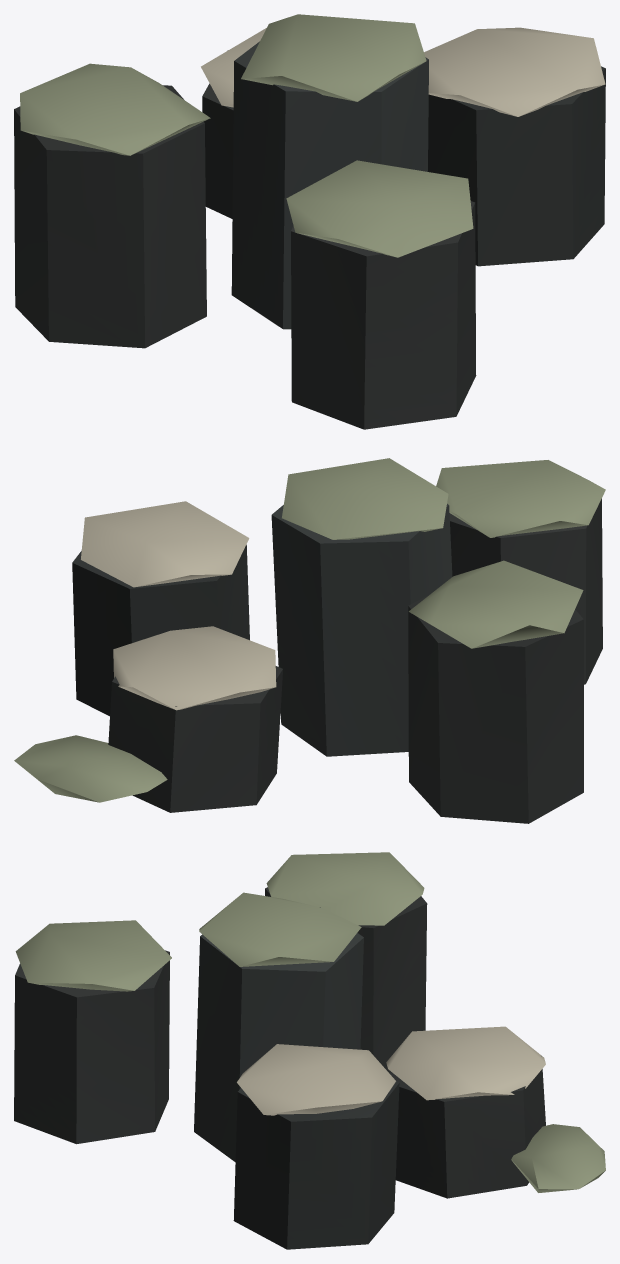
The model's file is column_stubs_a_lod2.glb.
3 renders of one model, top to bottom at view 1: azimuth 30°, elevation 25°; view 2: azimuth 150°, elevation 25°; view 3: azimuth 270°, elevation 25°, orthographic. The views are drawn at different scales.
Visible parts, largest first — view 1: Surface.001; view 2: Surface.001; view 3: Surface.001.
Part boxes in pixels (x1=…): Surface.001: x1=14, y1=14, x2=605, y2=429; Surface.001: x1=14, y1=458, x2=605, y2=823; Surface.001: x1=14, y1=852, x2=605, y2=1249.
Bounding box in the file's own units: 2.87 × 1.34 × 3.17.
